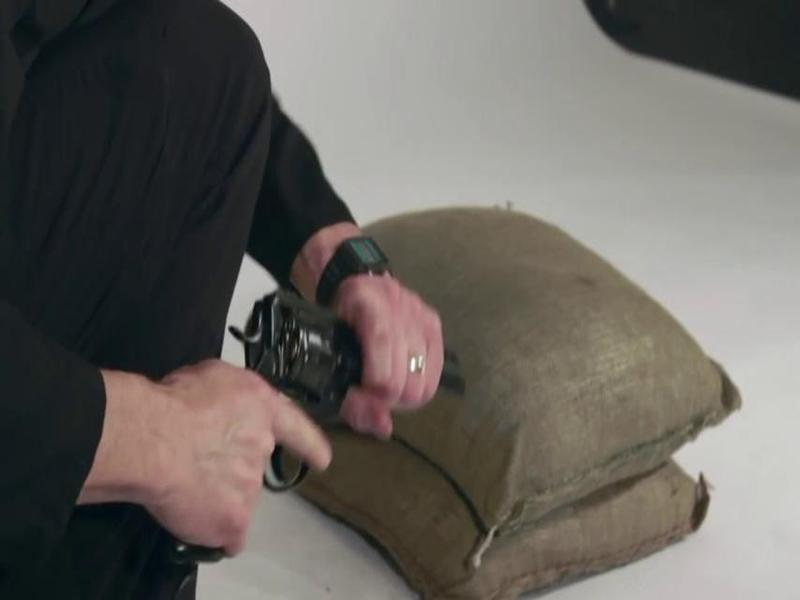Revolver: (177, 258, 502, 549)
